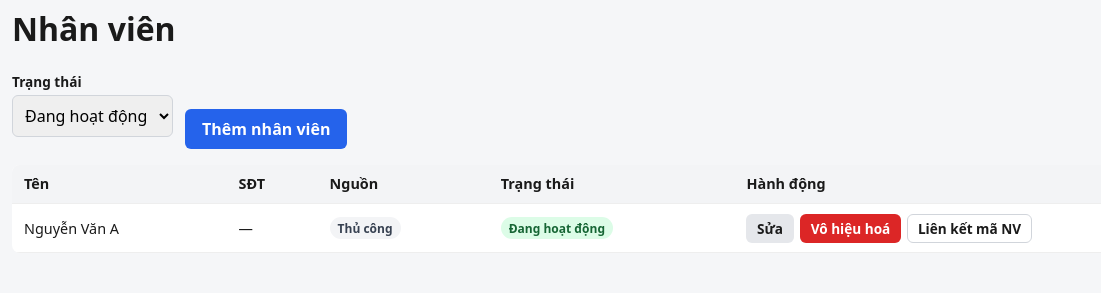
Test: EmployeesPage › thao tác link external_id thành công hiển thị rõ nhân viên đã "đã đồng bộ"
The image size is (1101, 293).
Check: the text "Thủ công" is shown, box 330,217 -> 400,239
Click the button "Liên kết mã NV". click: (970, 228)
box: 907,214 -> 1032,243
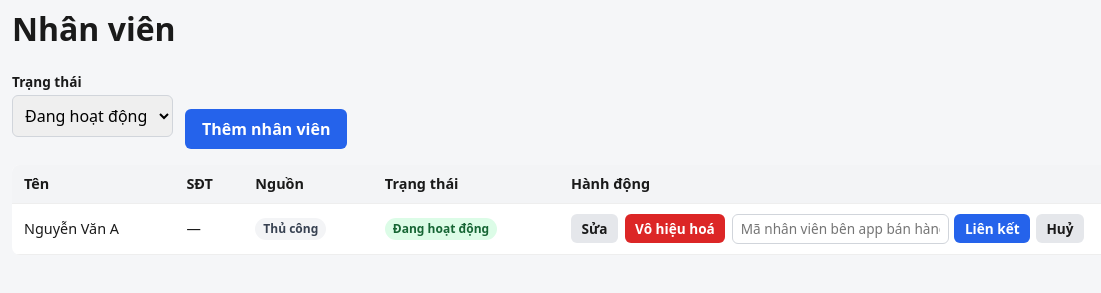
Type "ext-123" into the field named "Mã nhân viên (external_id)". click: (840, 229)
box: 732,214 -> 949,244
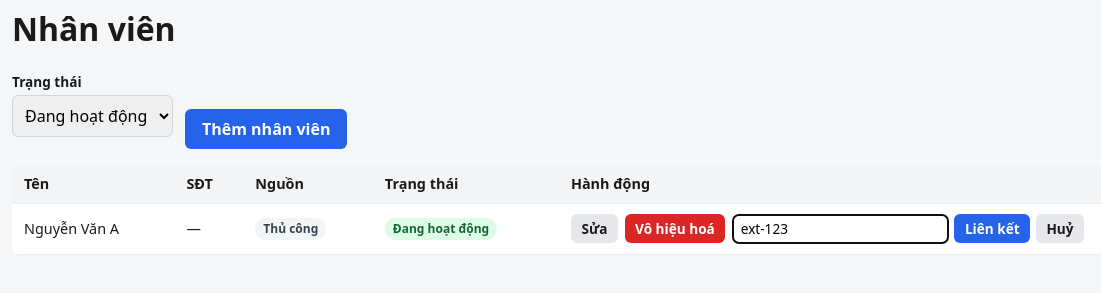
Click the button "Liên kết". click: (992, 229)
box: 954,214 -> 1030,244
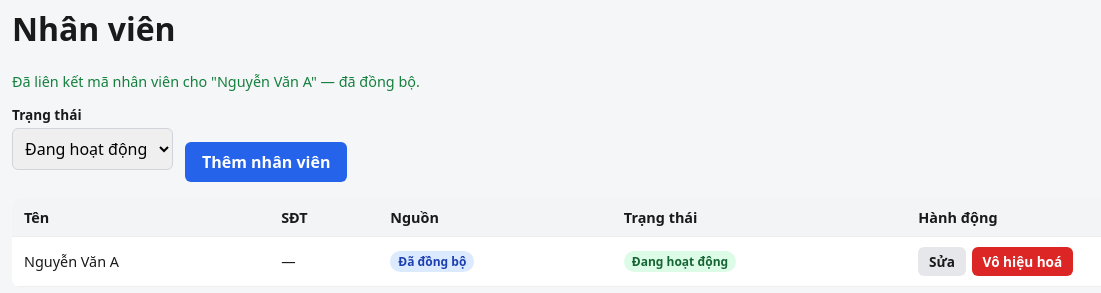
Check: the text "Đã đồng bộ" is shown, box 390,251 -> 474,272
